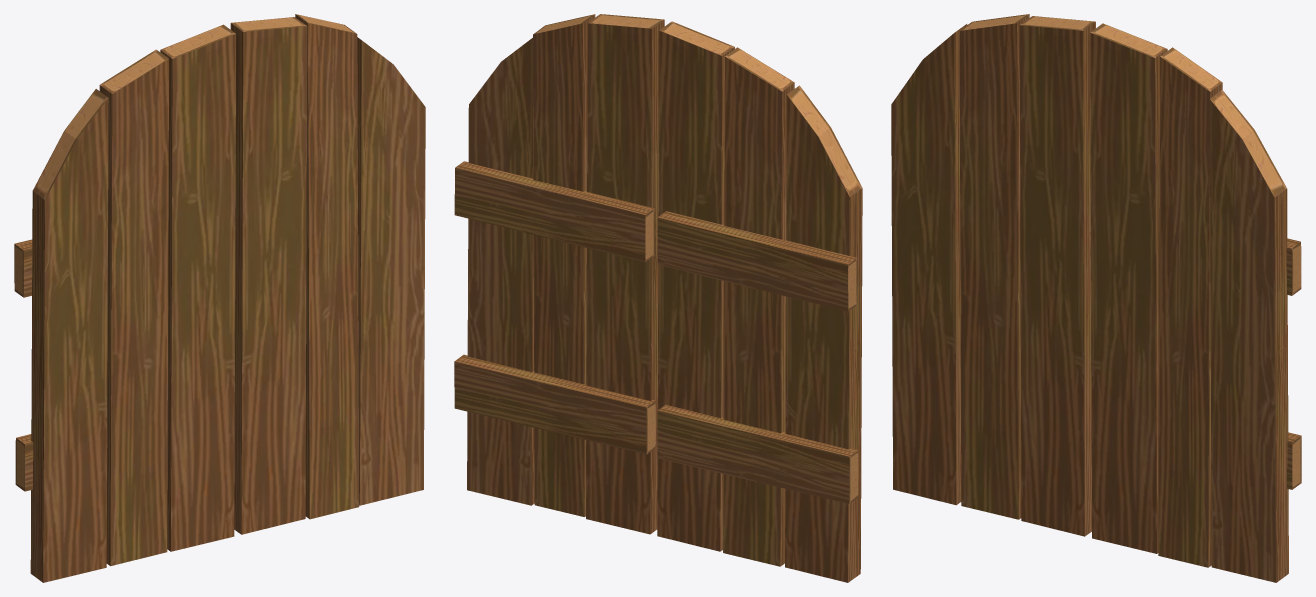
Rendered from windowshutters_wide_round_closed.glb.
3 views of the same model, side by side, from view 1: azimuth 30°, elevation 25°; view 2: azimuth 150°, elevation 25°; view 3: azimuth 330°, elevation 25° (orthographic).
Bounding box in the file's own units: 1.35 × 1.65 × 0.1357.
Materials: 1 (1 with a texture image).
